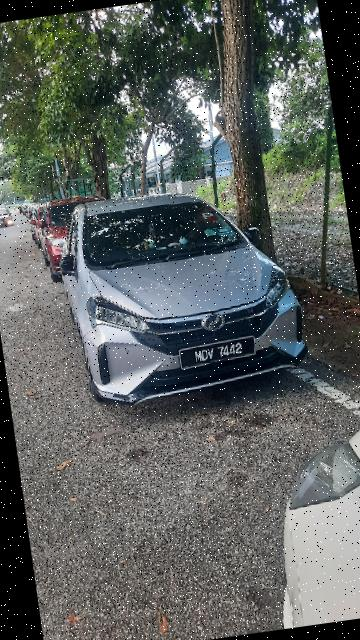License_Plate: (175, 335, 261, 372)
car: (45, 174, 318, 416)
